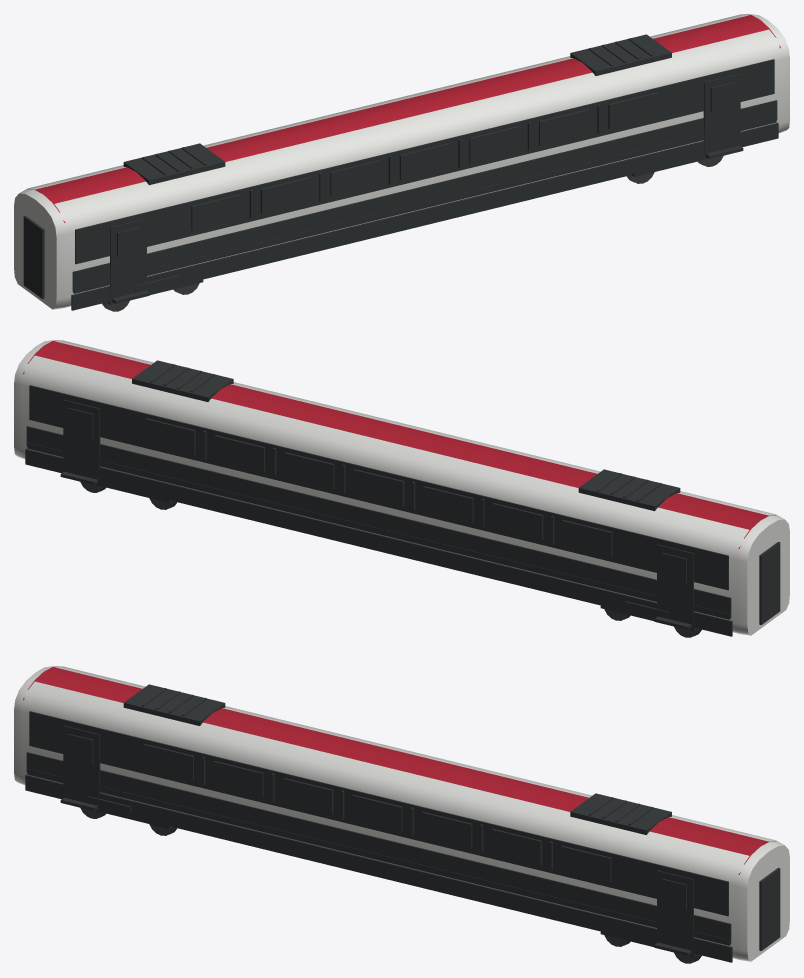
File: railjet-nextgen-multifunction.glb
3 renders of one model, top to bottom at view 1: azimuth 30°, elevation 25°; view 2: azimuth 150°, elevation 25°; view 3: azimuth 330°, elevation 25°, orthographic.
Parts seen in each view (by area): view 1: multifunction_lofted_body, multifunction_black_window_ribbon_-1, multifunction_red_roof, multifunction_silver_flank_-1, multifunction_dark_skirt_-1, multifunction_red_sill_-1, multifunction_hvac_0, multifunction_hvac_1, multifunction_wide_door_-1_1, multifunction_wide_door_-1_0, gangway_1.007, multifunction_window_-1_3 (+9 smaller); view 2: multifunction_lofted_body, multifunction_black_window_ribbon_1, multifunction_red_roof, multifunction_silver_flank_1, multifunction_dark_skirt_1, multifunction_red_sill_1, multifunction_hvac_0, multifunction_hvac_1, multifunction_wide_door_1_1, multifunction_wide_door_1_0, gangway_1.007, multifunction_window_1_3 (+11 smaller); view 3: multifunction_lofted_body, multifunction_black_window_ribbon_-1, multifunction_red_roof, multifunction_silver_flank_-1, multifunction_dark_skirt_-1, multifunction_red_sill_-1, multifunction_hvac_0, multifunction_hvac_1, multifunction_wide_door_-1_1, multifunction_wide_door_-1_0, gangway_0.007, multifunction_window_-1_2 (+9 smaller).
Part boxes in pixels (bbox=[...]): multifunction_lofted_body: bbox=[14, 14, 789, 309]; multifunction_black_window_ribbon_-1: bbox=[75, 59, 774, 264]; multifunction_red_roof: bbox=[28, 14, 780, 222]; multifunction_silver_flank_-1: bbox=[72, 100, 777, 291]; multifunction_dark_skirt_-1: bbox=[71, 122, 778, 310]; multifunction_red_sill_-1: bbox=[73, 116, 776, 293]; multifunction_hvac_0: bbox=[123, 143, 225, 185]; multifunction_hvac_1: bbox=[570, 34, 671, 75]; multifunction_wide_door_-1_1: bbox=[703, 73, 740, 154]; multifunction_wide_door_-1_0: bbox=[110, 218, 146, 299]; gangway_1.007: bbox=[23, 215, 44, 298]; multifunction_window_-1_3: bbox=[399, 143, 450, 180]; multifunction_lofted_body: bbox=[14, 340, 789, 635]; multifunction_black_window_ribbon_1: bbox=[29, 385, 728, 590]; multifunction_red_roof: bbox=[23, 340, 775, 548]; multifunction_silver_flank_1: bbox=[26, 426, 731, 617]; multifunction_dark_skirt_1: bbox=[25, 448, 732, 636]; multifunction_red_sill_1: bbox=[27, 442, 730, 619]; multifunction_hvac_0: bbox=[578, 469, 680, 511]; multifunction_hvac_1: bbox=[132, 360, 233, 401]; multifunction_wide_door_1_1: bbox=[63, 399, 100, 480]; multifunction_wide_door_1_0: bbox=[657, 544, 693, 625]; gangway_1.007: bbox=[759, 541, 780, 624]; multifunction_window_1_3: bbox=[353, 469, 404, 506]; multifunction_lofted_body: bbox=[14, 666, 789, 961]; multifunction_black_window_ribbon_-1: bbox=[29, 711, 728, 916]; multifunction_red_roof: bbox=[23, 666, 775, 874]; multifunction_silver_flank_-1: bbox=[26, 752, 731, 943]; multifunction_dark_skirt_-1: bbox=[25, 774, 732, 962]; multifunction_red_sill_-1: bbox=[27, 768, 730, 945]; multifunction_hvac_0: bbox=[123, 684, 225, 725]; multifunction_hvac_1: bbox=[570, 793, 671, 834]; multifunction_wide_door_-1_1: bbox=[657, 870, 693, 951]; multifunction_wide_door_-1_0: bbox=[63, 725, 100, 806]; gangway_0.007: bbox=[759, 867, 780, 950]; multifunction_window_-1_2: bbox=[282, 778, 333, 814].
Bounding box in the file's own units: 26.6 × 4.32 × 3.42.
